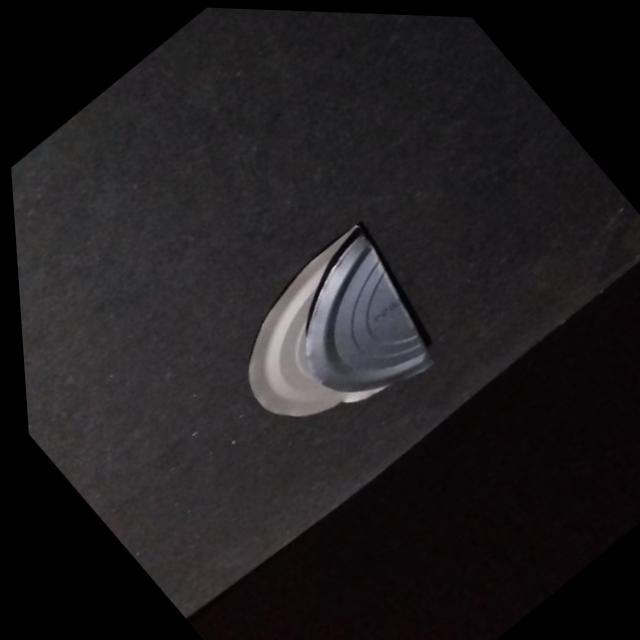metal: (249, 225, 431, 416)
